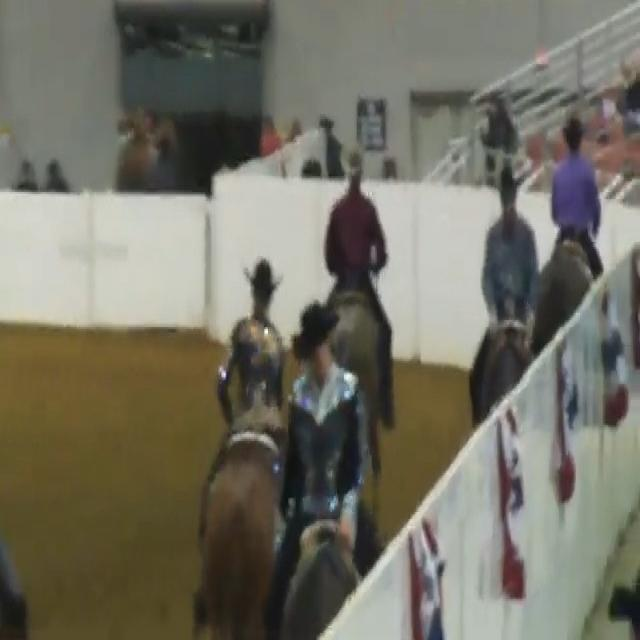horse: (306, 174, 466, 507), (198, 218, 289, 640)
